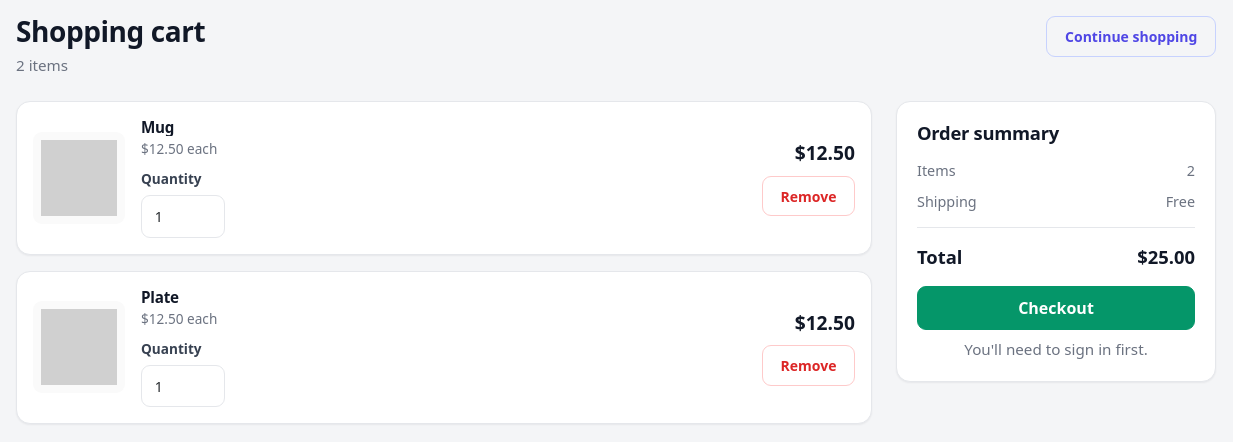
Scenario: changing a line › removing an item takes it out of the store and the page
Click the 1st button "Remove": (808, 196) [762, 176, 855, 216]
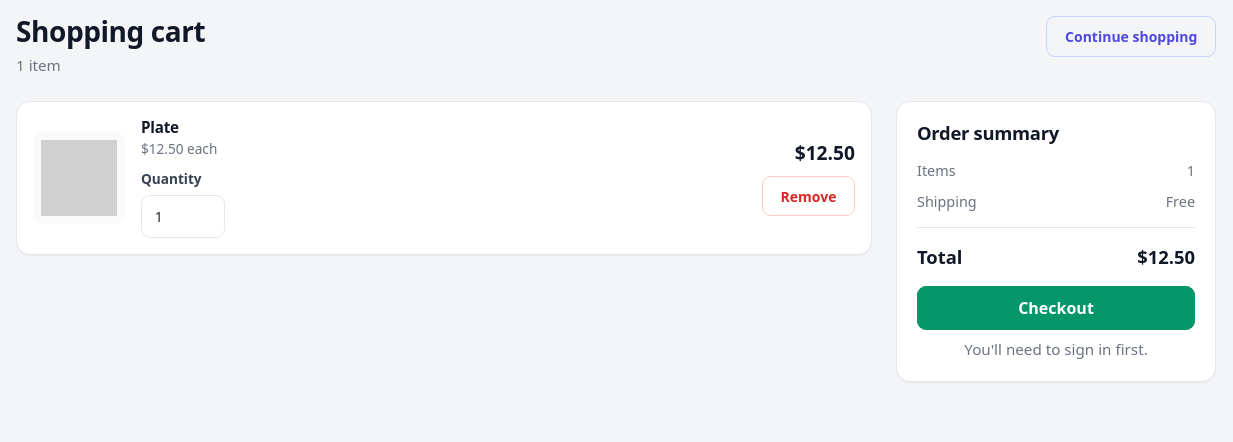
expect the heading "Plate" is shown: met, box [141, 117, 179, 137]
expect the heading "Mug" is gone: met
